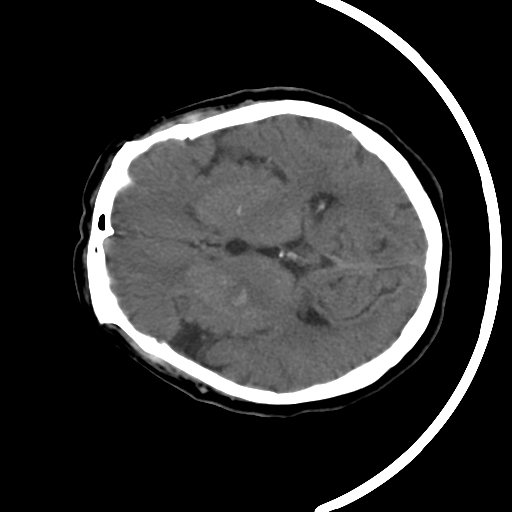a: (213, 268, 277, 325)
